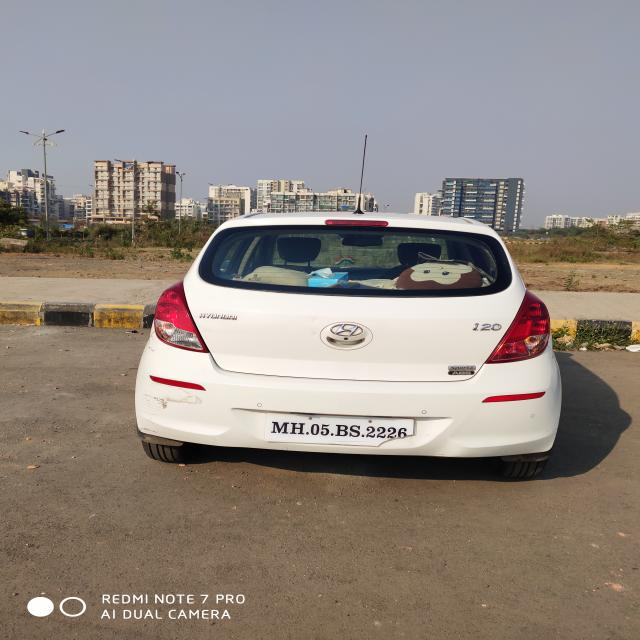Number-Plate: (269, 417, 414, 444)
